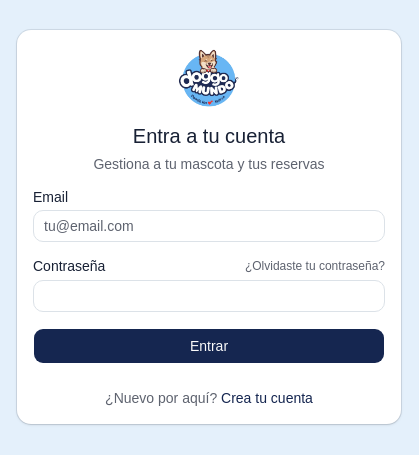
Test: LoginPage — client validation › rejects bad email format
Type "not-an-email" into the field labelled "Email" at [209, 226], box [33,210,385,242]
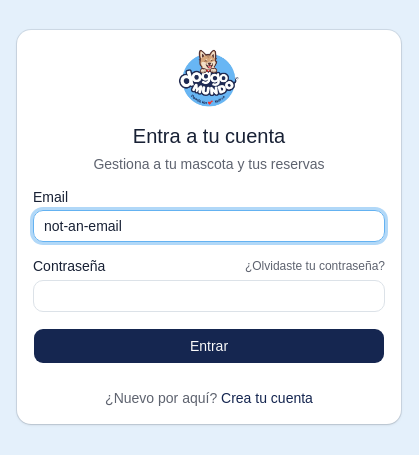
Type "whatever" into the password field labelled "Contraseña" at [209, 296], box [33,280,385,312]
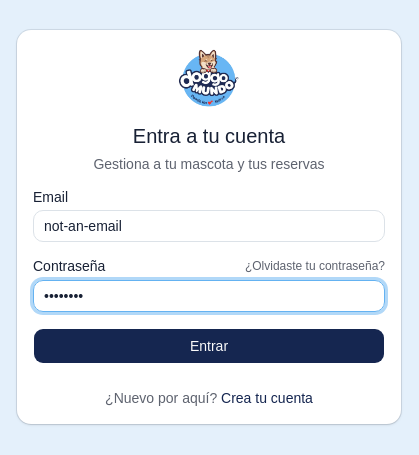
Click the button "Entrar" at [209, 346], box [33,328,385,364]
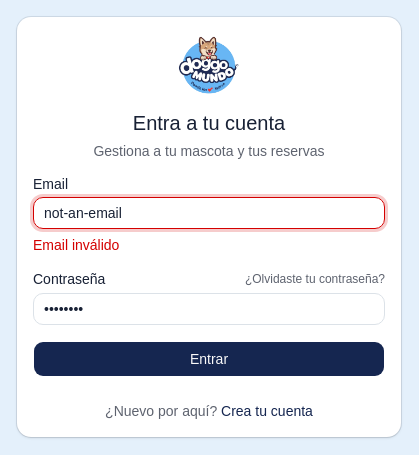
Check: the text "Email inválido" is shown, box [33,237,119,253]
